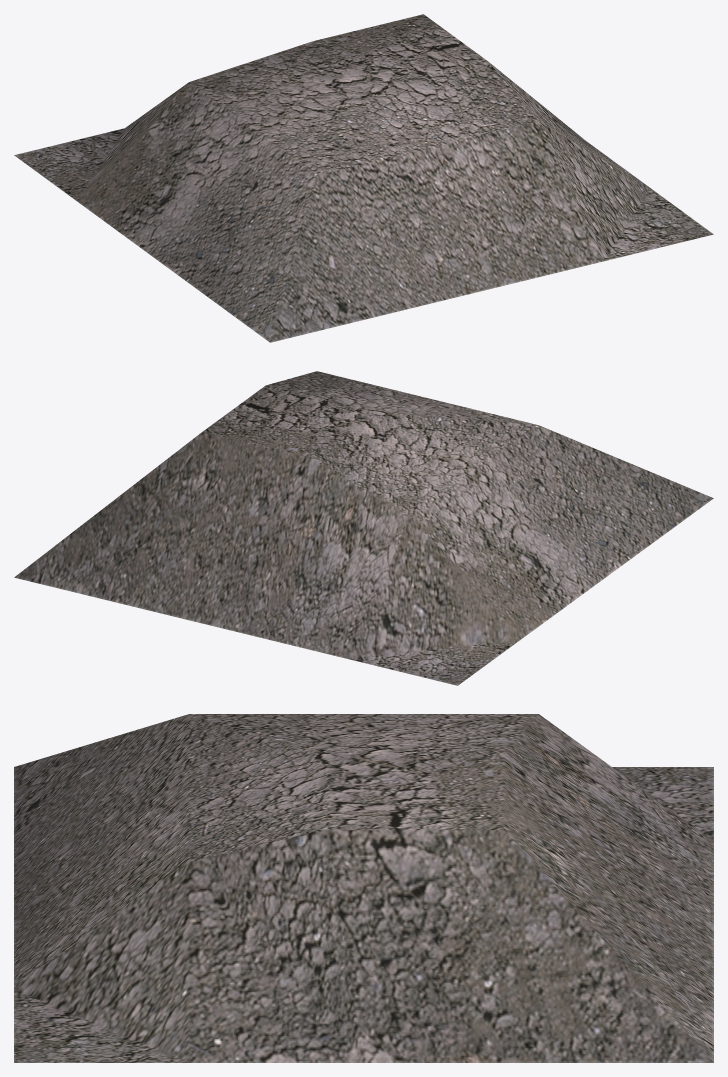
Rendered from Mound.FBX.
3 renders of one model, top to bottom at view 1: azimuth 30°, elevation 25°; view 2: azimuth 150°, elevation 25°; view 3: azimuth 270°, elevation 25°, orthographic. The views are drawn at different scales.
Parts seen in each view (by area): view 1: Mound; view 2: Mound; view 3: Mound.
Boxes of the visible parts, left/top/right/bottom form: Mound: left=14, top=14, right=713, bottom=342; Mound: left=14, top=371, right=713, bottom=685; Mound: left=14, top=714, right=713, bottom=1062.
Bounding box in the file's own units: 200 × 50 × 200.
